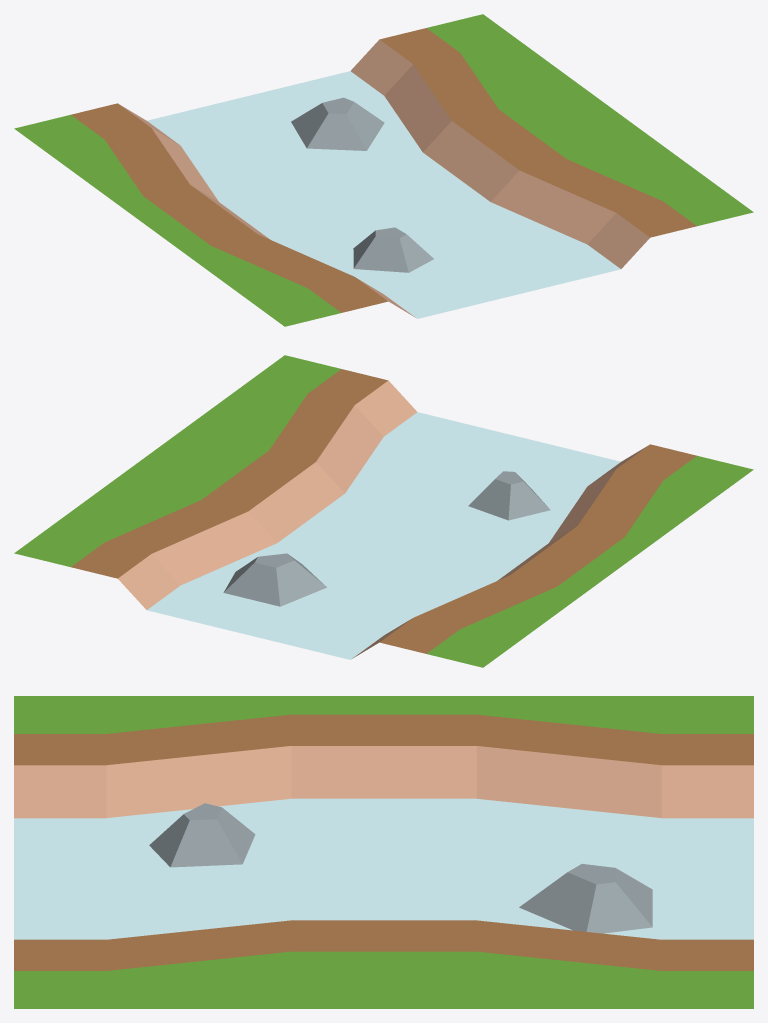
File: ground_riverRocks.glb
The picture shows the model from 3 angles, top to bottom: view 1: azimuth 30°, elevation 25°; view 2: azimuth 150°, elevation 25°; view 3: azimuth 270°, elevation 25°; orthographic projection. The views are drawn at different scales.
Parts seen in each view (by area): view 1: ground_riverRocks; view 2: ground_riverRocks; view 3: ground_riverRocks.
Boxes of the visible parts, x1,y1,x2,y2 form: ground_riverRocks: (14,14,753,326); ground_riverRocks: (14,355,753,667); ground_riverRocks: (14,696,753,1008).
Size of the model in its own units: 1 by 0.05 by 1.
